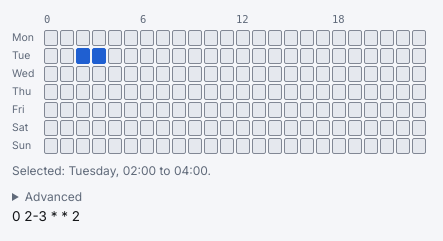
it: WeekPainter › keeps the same hours on every painted day, which is what one expression can say
The width and height of the screenshot is (443, 241).
Click the cell named "Thursday 02:00" at [83, 92], box [76,84,90,100]
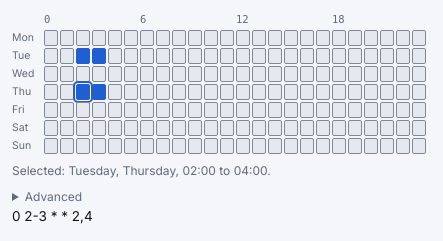
Now the text with test id "cron" reads "0 2-3 * * 2,4", box [12,208,93,224]
